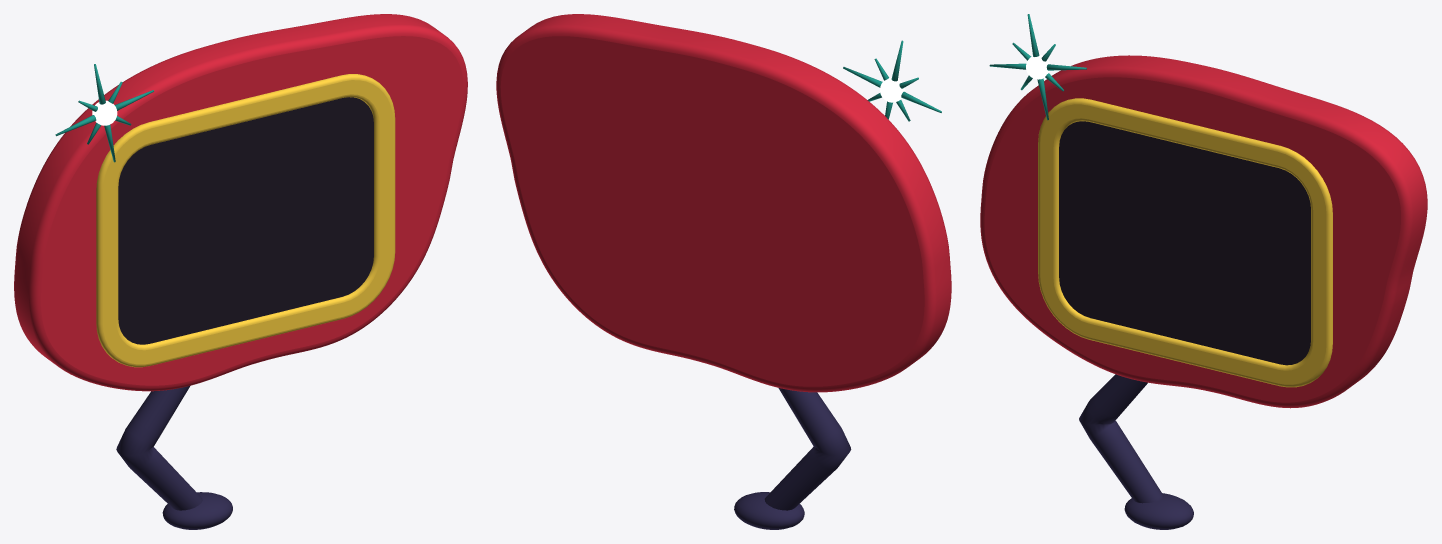
Rendered from BB_KIDNEY_2.glb.
The picture shows the model from 3 angles, left to right: view 1: azimuth 30°, elevation 25°; view 2: azimuth 150°, elevation 25°; view 3: azimuth 330°, elevation 25°; orthographic projection.
Parts seen in each view (by area): view 1: BB_KIDNEY_2_body, BB_KIDNEY_2_FACE, BB_KIDNEY_2_frame, BB_KIDNEY_2_leg, BB_KIDNEY_2_foot; view 2: BB_KIDNEY_2_body, BB_KIDNEY_2_leg, BB_KIDNEY_2_foot; view 3: BB_KIDNEY_2_body, BB_KIDNEY_2_FACE, BB_KIDNEY_2_frame, BB_KIDNEY_2_leg, BB_KIDNEY_2_foot.
Boxes of the visible parts, x1,y1,x2,y2 form: BB_KIDNEY_2_body: (14,14,467,391); BB_KIDNEY_2_FACE: (118,97,373,344); BB_KIDNEY_2_frame: (96,74,395,367); BB_KIDNEY_2_leg: (116,385,202,510); BB_KIDNEY_2_foot: (162,492,232,529); BB_KIDNEY_2_body: (496,14,951,392); BB_KIDNEY_2_leg: (764,388,851,510); BB_KIDNEY_2_foot: (734,492,804,529); BB_KIDNEY_2_body: (980,55,1427,408); BB_KIDNEY_2_FACE: (1059,121,1310,365); BB_KIDNEY_2_frame: (1038,98,1332,387); BB_KIDNEY_2_leg: (1079,374,1163,503); BB_KIDNEY_2_foot: (1124,493,1193,529).
Size of the model in its own units: 10.23 by 11.15 by 1.46.
